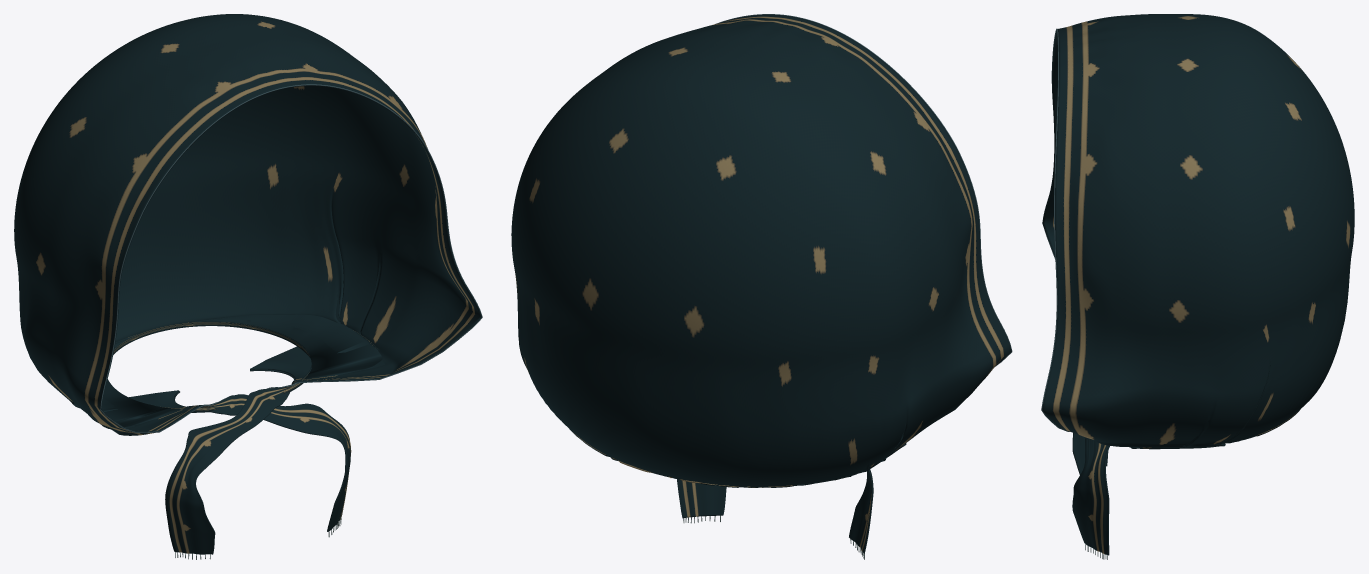
File: Feminine-straight-jersey-pashmina250-headgear.glb
3 views of the same model, side by side, from view 1: azimuth 30°, elevation 25°; view 2: azimuth 150°, elevation 25°; view 3: azimuth 270°, elevation 25° (orthographic). The views are drawn at different scales.
Visible parts, largest first — view 1: 226 headgear / Headwear / continuous woven pashmina239, 226 headgear / Headwear / face edge239; view 2: 226 headgear / Headwear / continuous woven pashmina239, 226 headgear / Headwear / face edge239; view 3: 226 headgear / Headwear / continuous woven pashmina239, 226 headgear / Headwear / face edge239.
Boxes of the visible parts, left/top/right/bottom form: 226 headgear / Headwear / continuous woven pashmina239: left=14, top=14, right=481, bottom=554; 226 headgear / Headwear / face edge239: left=100, top=84, right=482, bottom=433; 226 headgear / Headwear / continuous woven pashmina239: left=511, top=14, right=1011, bottom=553; 226 headgear / Headwear / face edge239: left=716, top=14, right=1012, bottom=366; 226 headgear / Headwear / continuous woven pashmina239: left=1042, top=14, right=1354, bottom=555; 226 headgear / Headwear / face edge239: left=1041, top=28, right=1069, bottom=431.
Bounding box in the file's own units: 1.15 × 1.39 × 0.8118.
Materials: 3 (1 with a texture image).
